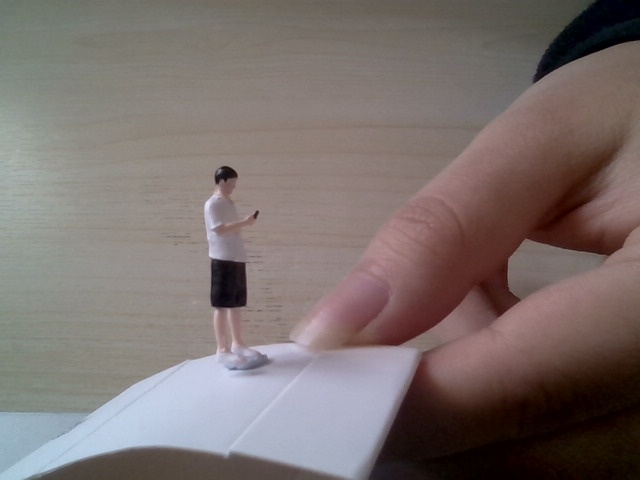walk: (190, 153, 274, 377)
